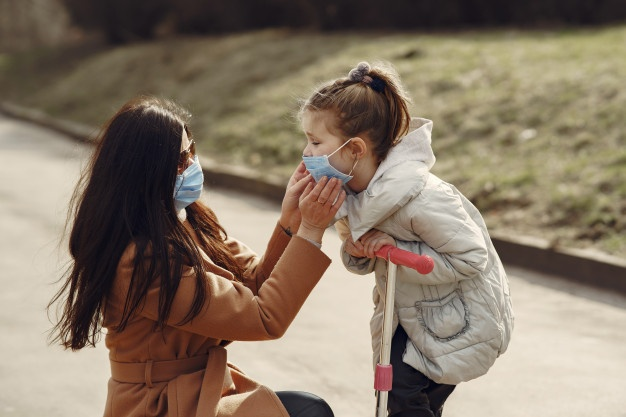with_incorrect_mask: (296, 112, 368, 192)
with_mask: (157, 124, 207, 209)
